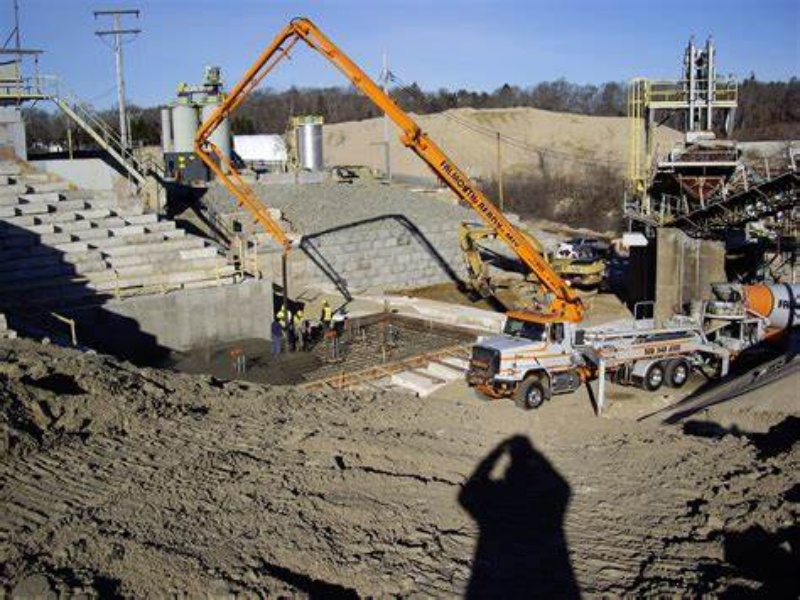pump truck: (185, 15, 701, 408)
